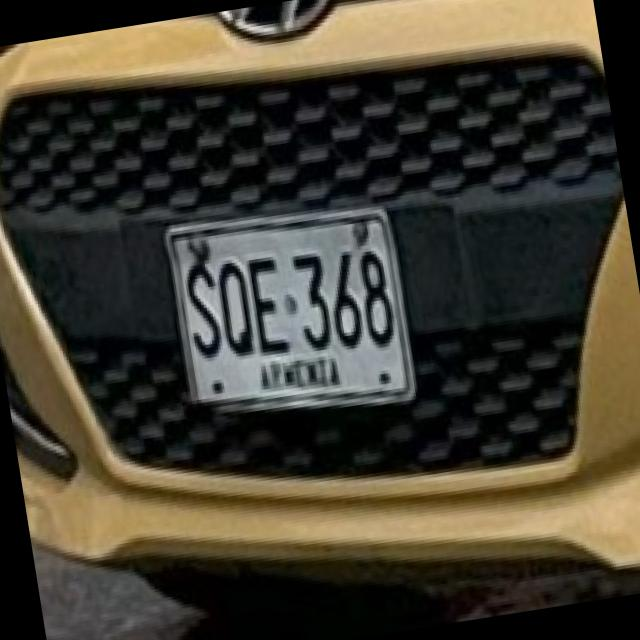number plate: (163, 206, 416, 409)
